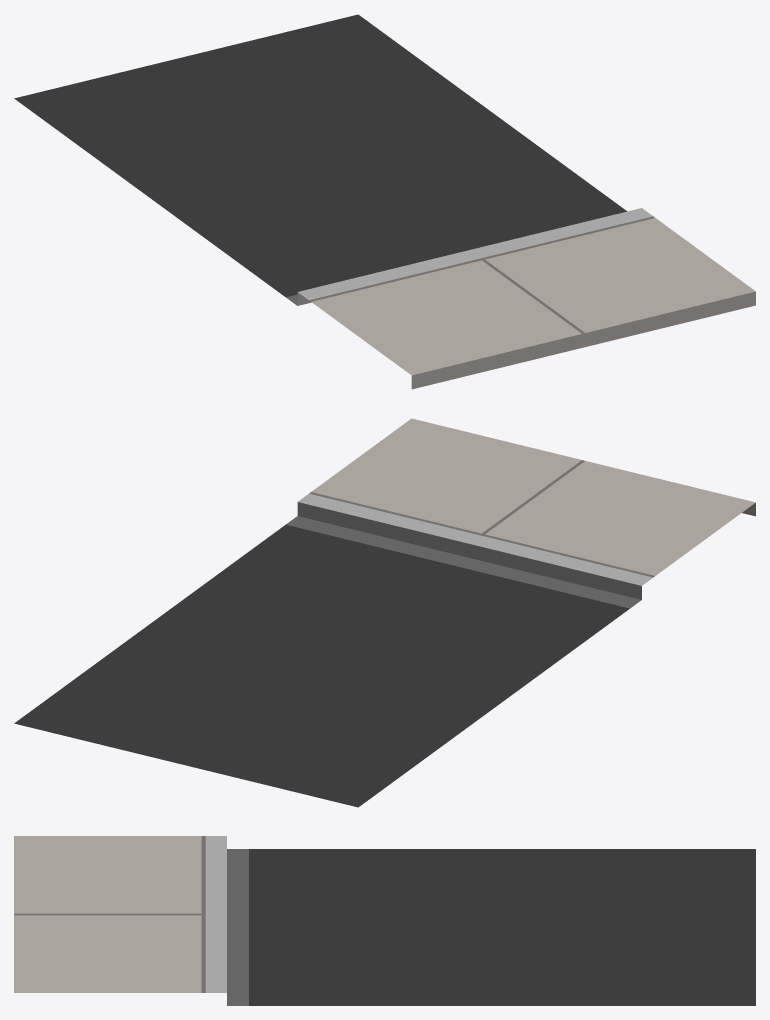
File: SA_Env_Road_Straight_clear_01.gltf
The picture shows the model from 3 angles, top to bottom: view 1: azimuth 30°, elevation 25°; view 2: azimuth 150°, elevation 25°; view 3: azimuth 270°, elevation 25°; orthographic projection. The views are drawn at different scales.
Parts seen in each view (by area): view 1: SA_Env_Road_Straight_clear_01; view 2: SA_Env_Road_Straight_clear_01; view 3: SA_Env_Road_Straight_clear_01.
Boxes of the visible parts, <box> form: SA_Env_Road_Straight_clear_01: <box>14,14,755,389</box>; SA_Env_Road_Straight_clear_01: <box>14,418,755,807</box>; SA_Env_Road_Straight_clear_01: <box>14,836,755,1005</box>.
Size of the model in its own units: 5 by 0.1948 by 10.
1 material, 1 textured.
